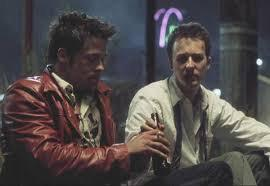Drunk: (69, 32, 107, 88), (173, 38, 207, 87)
